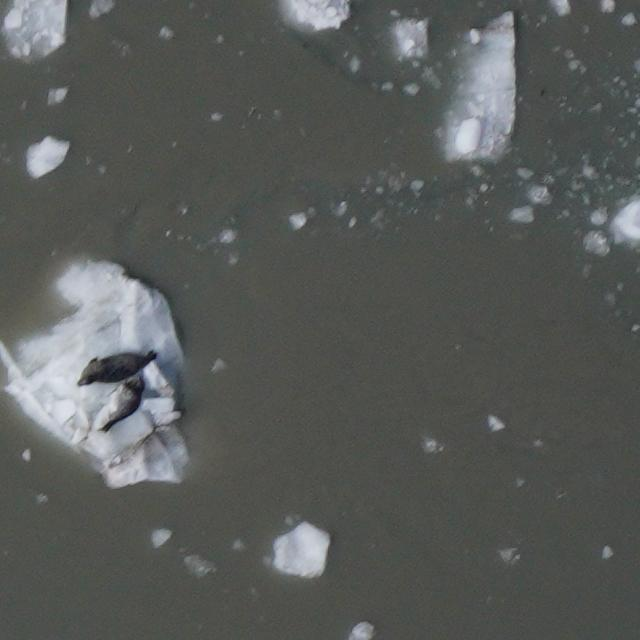seal: (95, 368, 152, 444), (74, 347, 162, 388)
